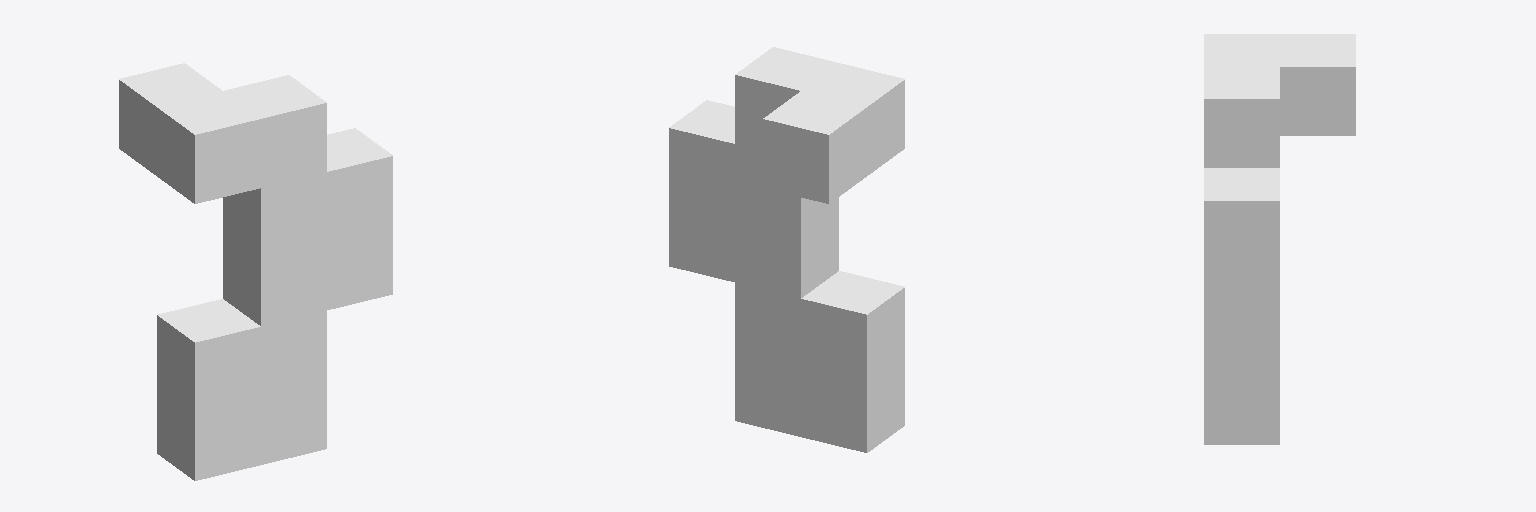
The model's file is hair1.obj.
The picture shows the model from 3 angles: view 1: azimuth 30°, elevation 25°; view 2: azimuth 150°, elevation 25°; view 3: azimuth 270°, elevation 25°; orthographic projection.
Size of the model in its own units: 3 by 5 by 2.